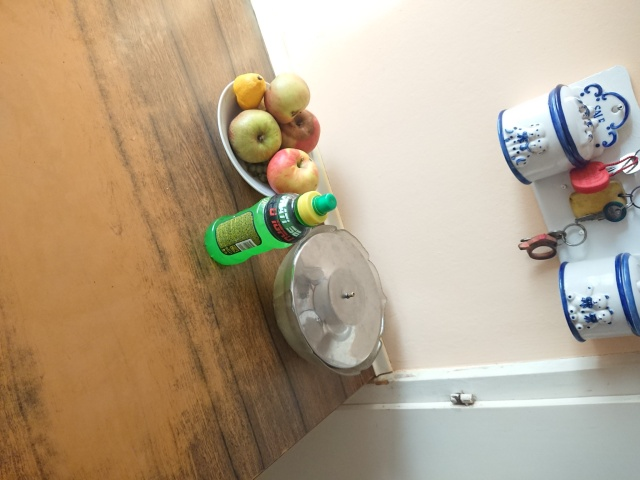Vindi Iso Sport Lemon-Grapefruit 500mL: (201, 187, 339, 269)
